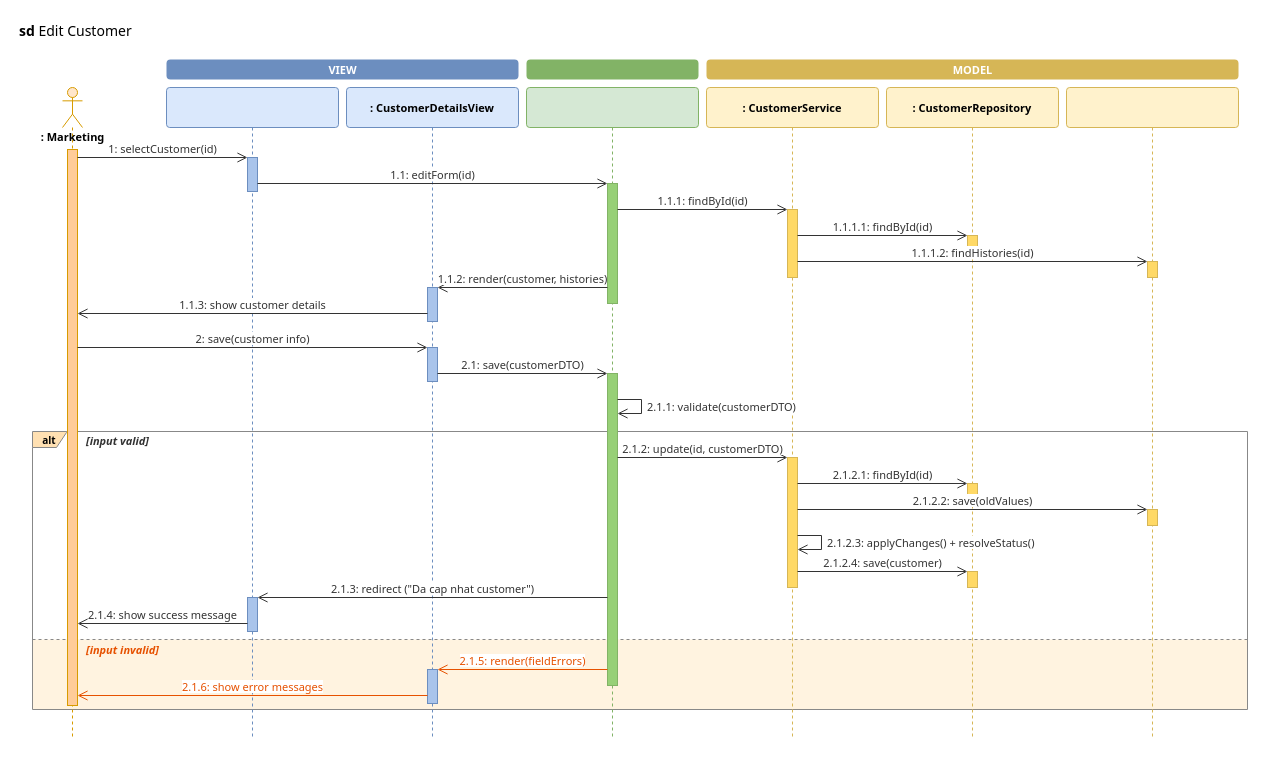
This 1266x757 diagram has some shape labels left out. The shapes that lost their labels are listed below. From the top down, each one's box as (x1, y1, x2, y2) in pixels, then its label:
(526, 59, 698, 79): CONTROLLER
(166, 86, 338, 740): : CustomerListView
(526, 86, 698, 740): : CustomerController
(1066, 86, 1238, 740): : CustomerHistoryRepository
